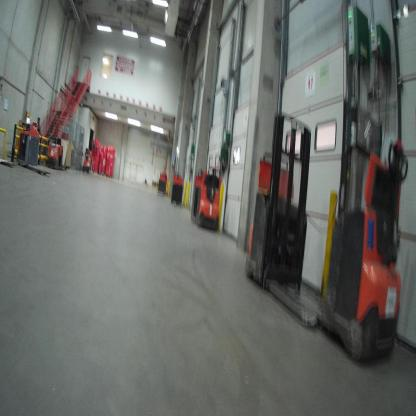pallet_truck: (311, 105, 410, 380), (238, 92, 333, 342), (185, 162, 224, 233), (16, 116, 54, 180), (44, 129, 73, 175), (168, 169, 187, 212), (155, 169, 168, 199), (83, 146, 96, 176)
